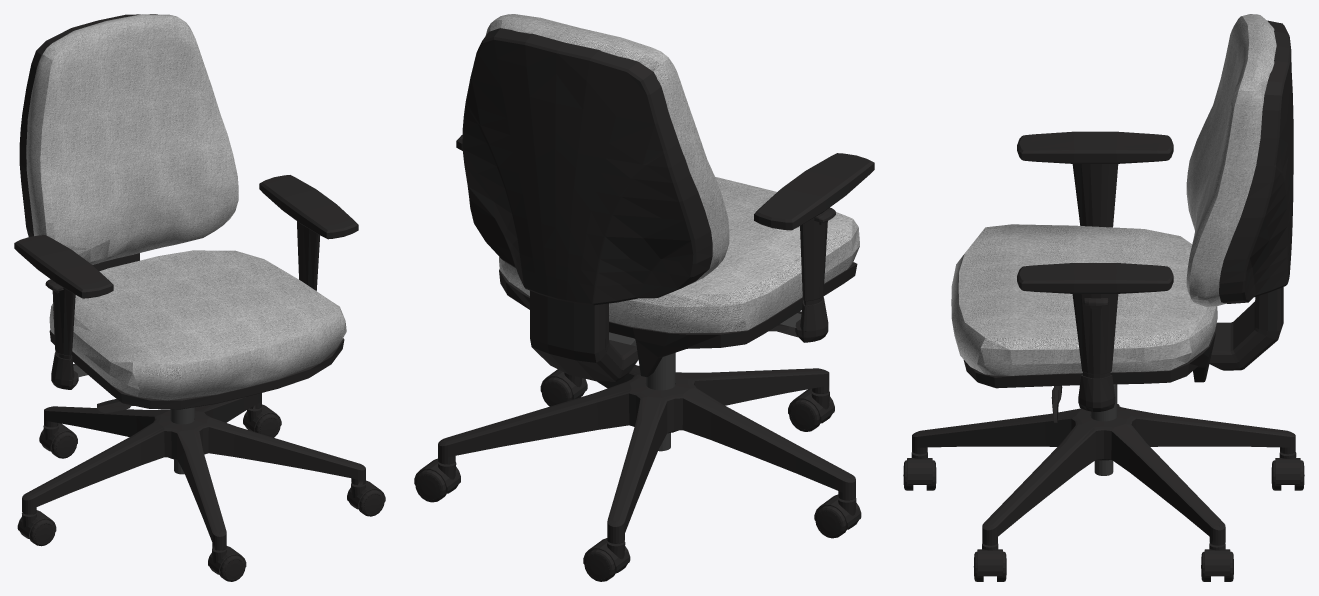
The model's file is Cadeira_Giratória.glb.
The picture shows the model from 3 angles, left to right: view 1: azimuth 30°, elevation 25°; view 2: azimuth 150°, elevation 25°; view 3: azimuth 270°, elevation 25°; orthographic projection. The views are drawn at different scales.
Visible parts, largest first — view 1: ENCOSTO, ASSENTO, Nexus___N2, grid_apoio, apoio_bra0; view 2: Nexus___N2, ASSENTO, ENCOSTO, grid_apoio, apoio_bra0; view 3: Nexus___N2, ASSENTO, ENCOSTO, grid_apoio, apoio_bra0.
Boxes of the visible parts, x1,y1,x2,y2 form: ENCOSTO: (26, 14, 238, 264); ASSENTO: (49, 250, 346, 400); Nexus___N2: (17, 14, 385, 579); grid_apoio: (14, 175, 358, 298); apoio_bra0: (45, 221, 320, 389); Nexus___N2: (414, 28, 861, 579); ASSENTO: (499, 177, 859, 332); ENCOSTO: (485, 14, 729, 284); grid_apoio: (456, 135, 874, 230); apoio_bra0: (795, 207, 835, 342); Nexus___N2: (903, 20, 1304, 576); ASSENTO: (951, 224, 1217, 375); ENCOSTO: (1186, 14, 1276, 306); grid_apoio: (1017, 131, 1173, 293); apoio_bra0: (1072, 164, 1118, 411).
Bounding box in the file's own units: 0.6685 × 0.9017 × 0.6964.
Materials: 5 (2 with a texture image).
